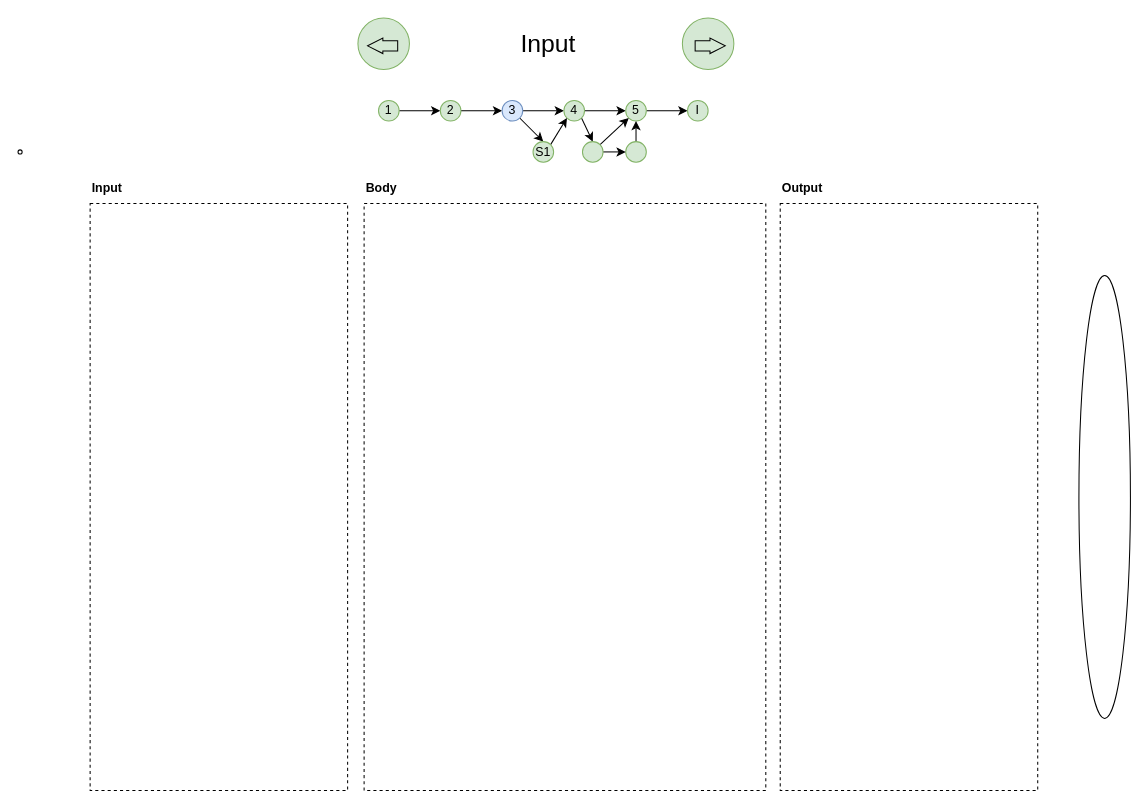
Image size: 1148x809. Some labels were removed from this diagram. The centre of each missing label's shape, as x and y in pixels:
out: point (1104, 496)
S2: point (635, 151)
T1: point (592, 151)
